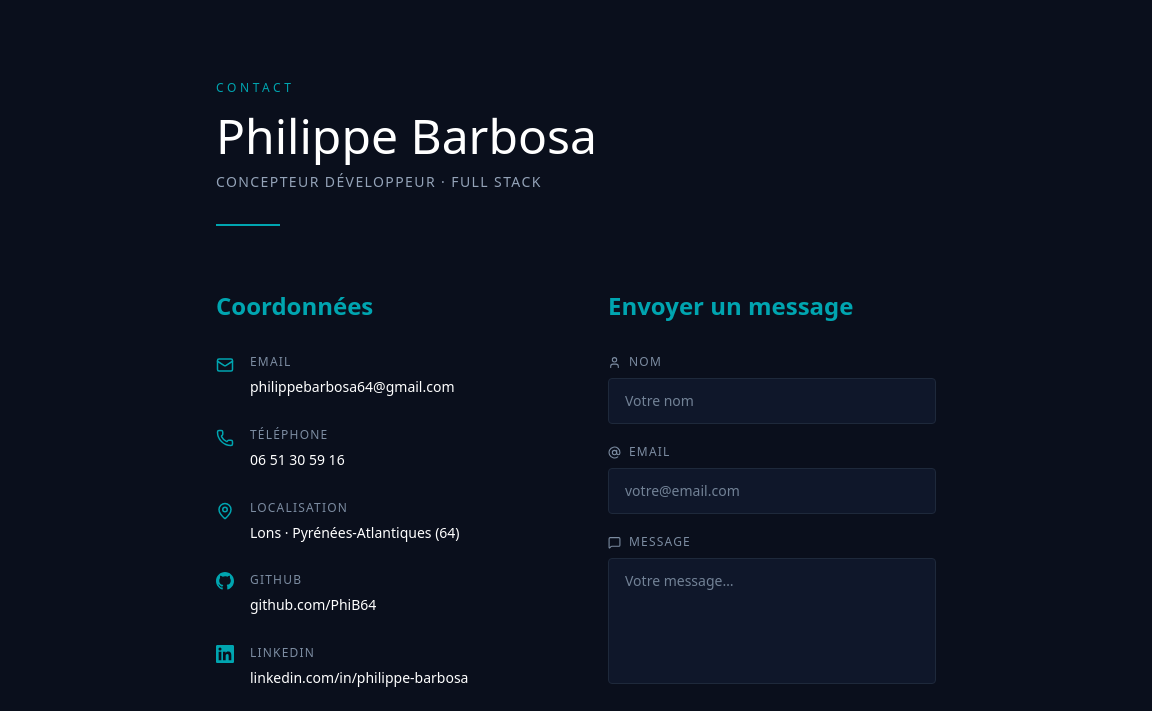
Scenario: envoi › refuse une adresse que le navigateur accepte et le motif refuse
Type "Camille Dupont" into the field labelled "Nom". click: [772, 401]
box: [608,378,936,424]
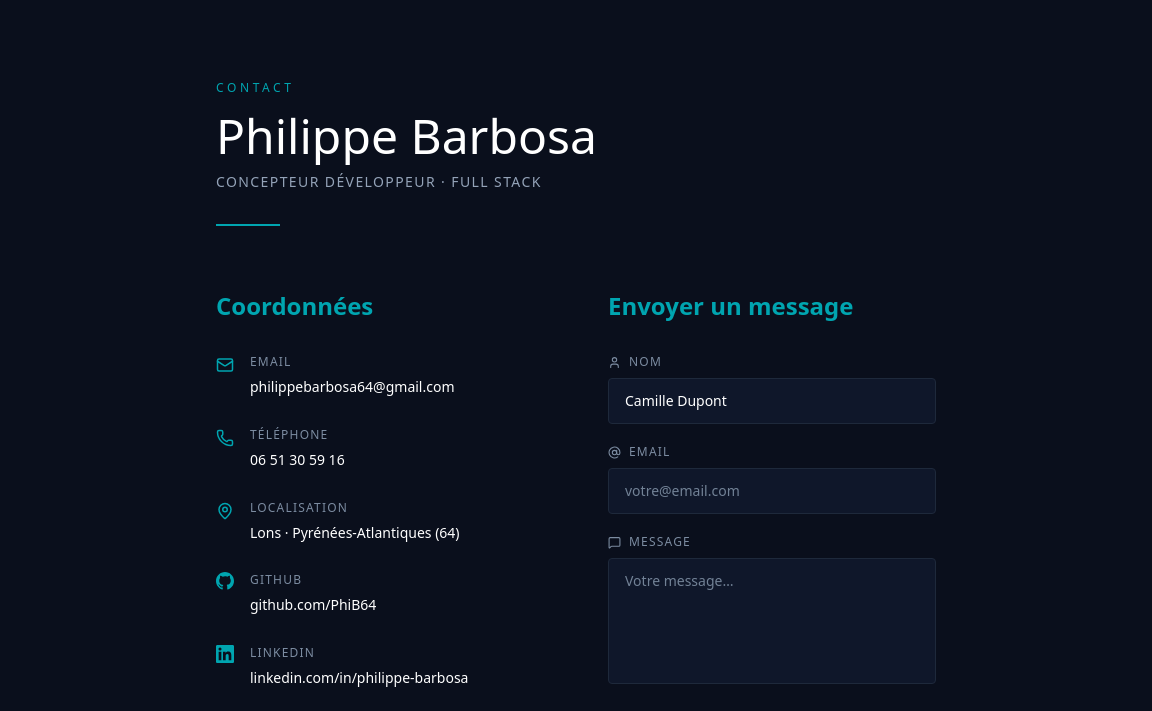
Type "a@b" into the field labelled "Email". click: [772, 491]
box: [608,468,936,514]
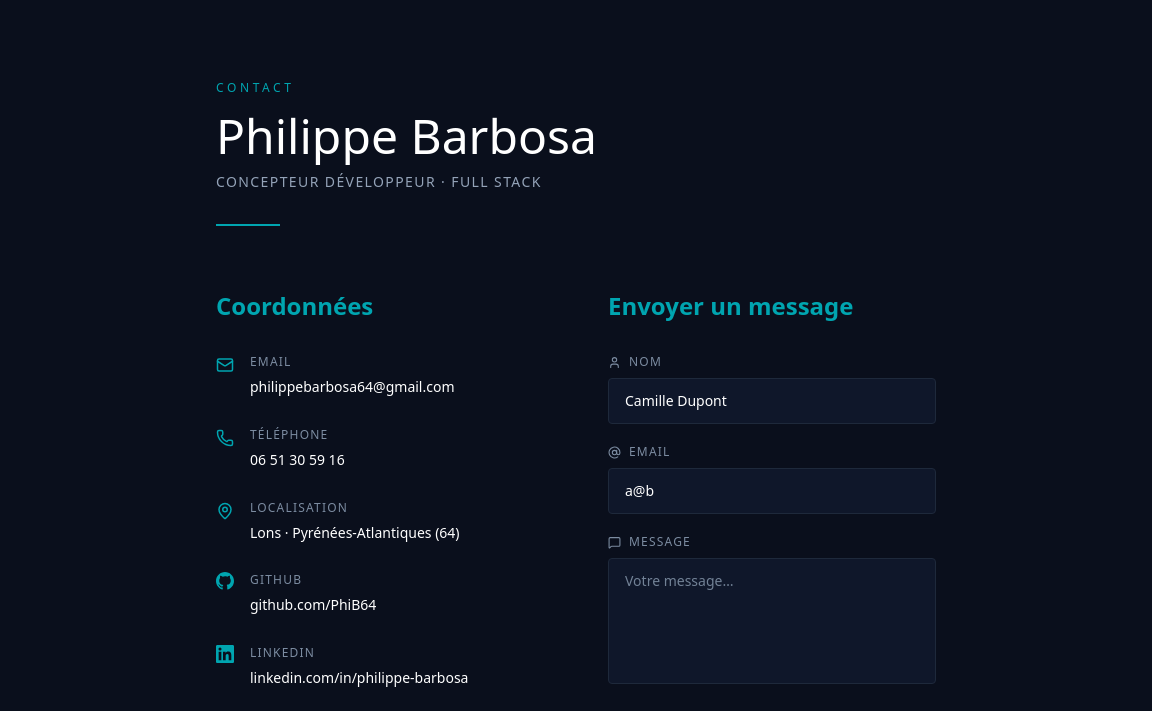
Type "Bonjour, je vous écris au sujet de votre portfolio." into the text box labelled "Message". click: [772, 621]
box: [608,558,936,684]
Wait 3000 ms
(page scrolled)
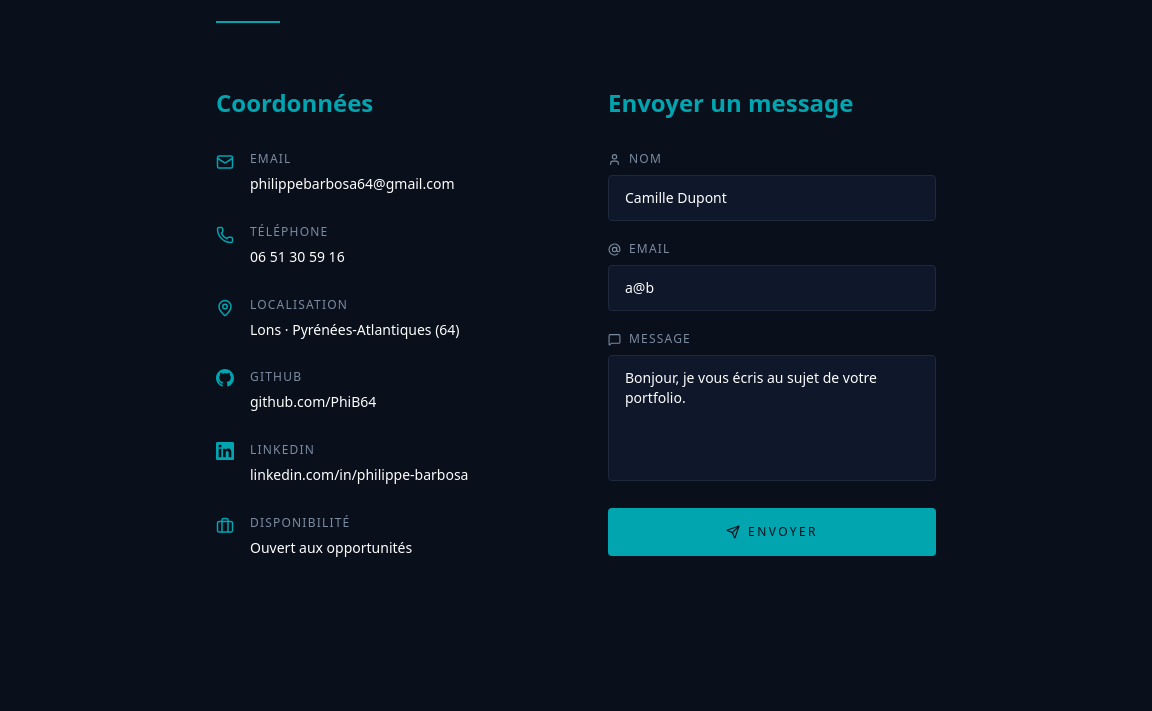
Click the button "Envoyer". click: [772, 532]
box: [608,508,936,556]
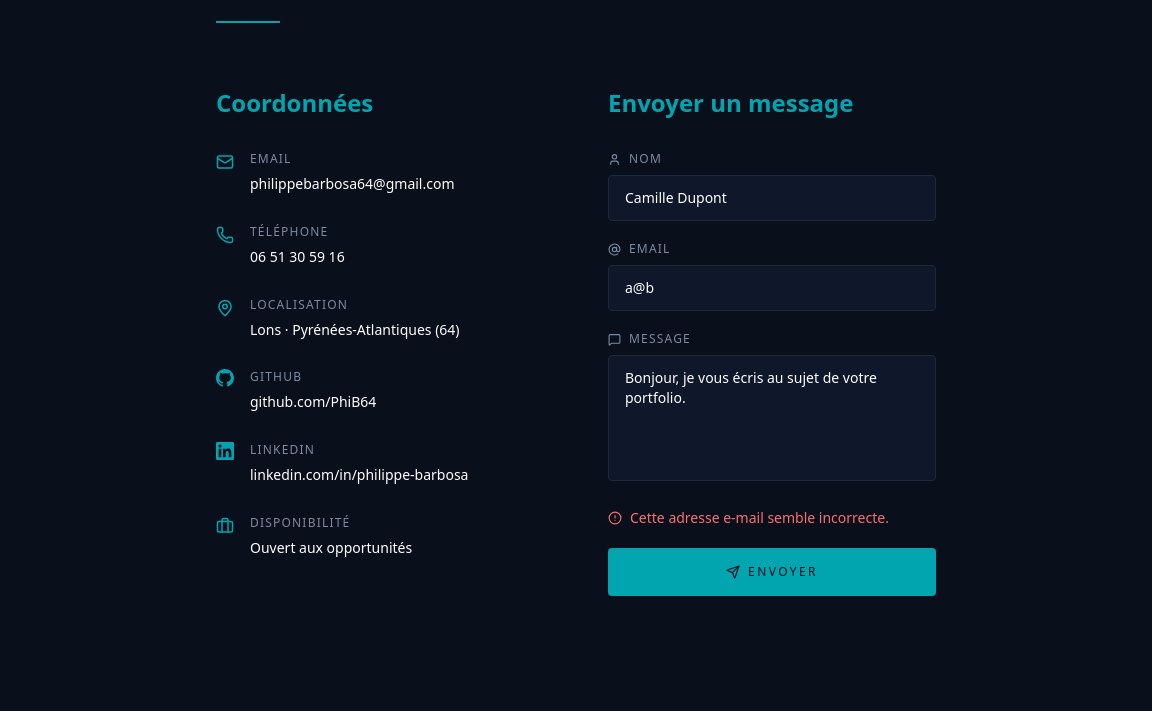
Check: the message shows "e-mail", box [630,508,889,527]
